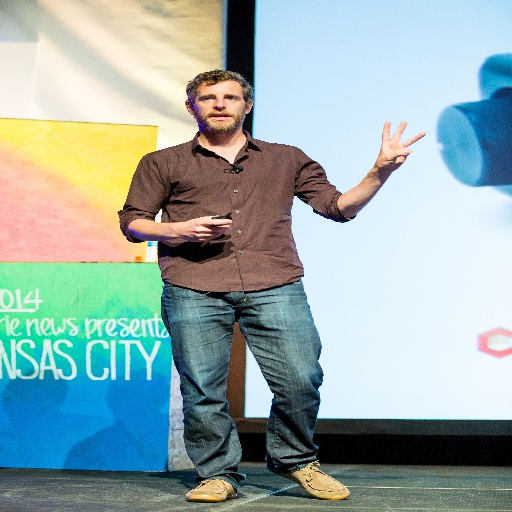hand: (372, 116, 427, 174), (172, 213, 232, 244)
